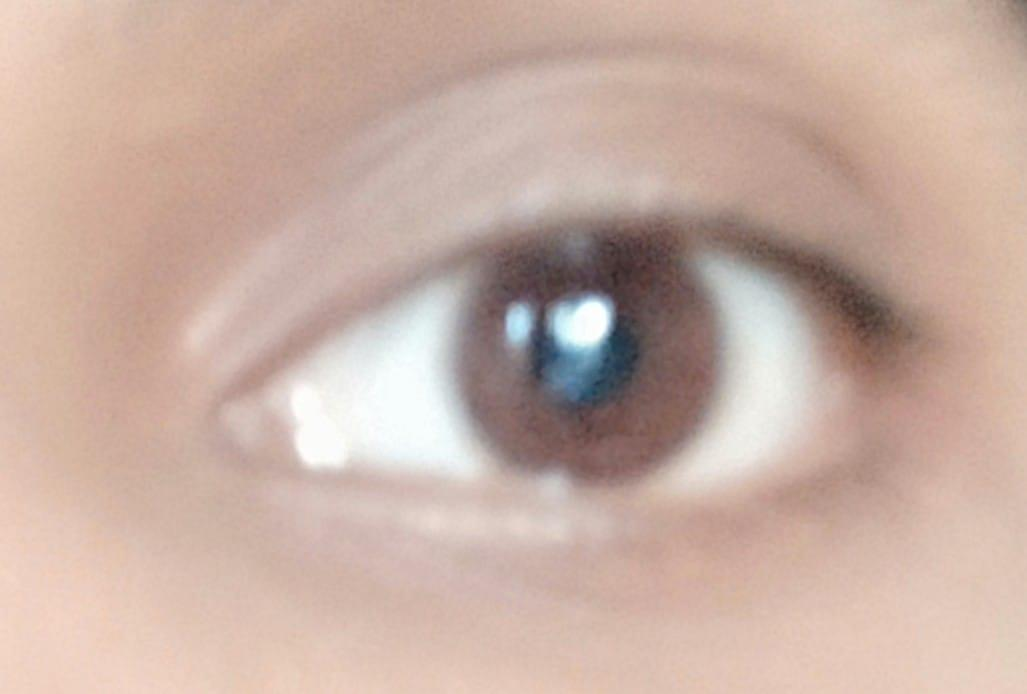open: (17, 50, 940, 590)
